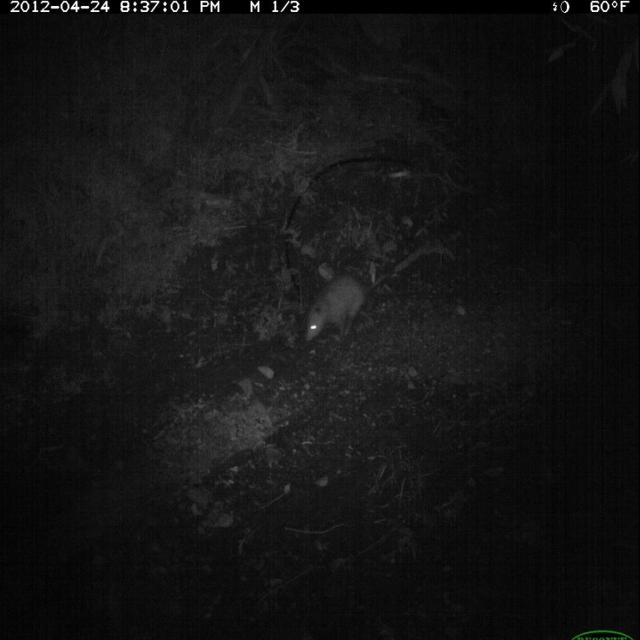opossum: (301, 260, 406, 350)
